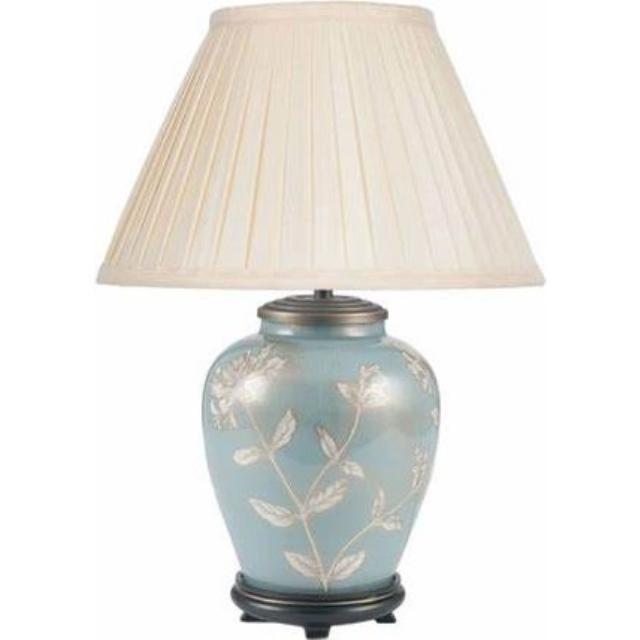lamp: (96, 4, 546, 640)
